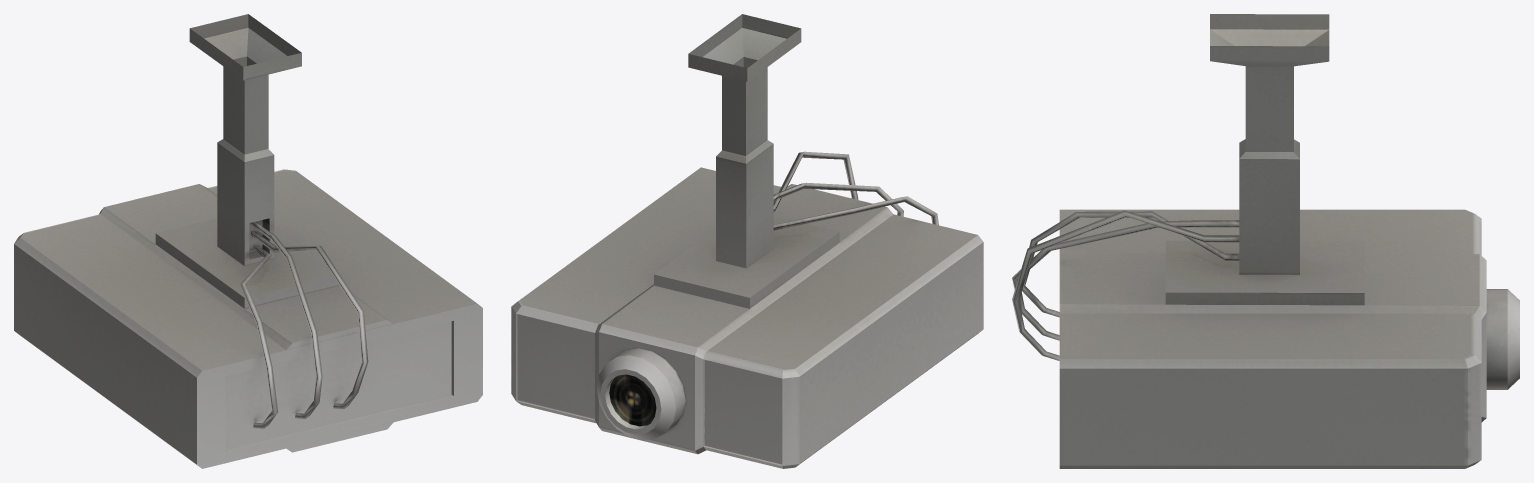
File: 3Dguoji_HDGS_TYY01_xp_ljw.FBX
3 renders of one model, left to right at view 1: azimuth 30°, elevation 25°; view 2: azimuth 150°, elevation 25°; view 3: azimuth 270°, elevation 25°, orthographic. The views are drawn at different scales.
Parts seen in each view (by area): view 1: HDGS_tyy_zxx_VRay; view 2: HDGS_tyy_zxx_VRay; view 3: HDGS_tyy_zxx_VRay.
Boxes of the visible parts, x1=… form: HDGS_tyy_zxx_VRay: x1=14, y1=14, x2=482, y2=468; HDGS_tyy_zxx_VRay: x1=511, y1=14, x2=983, y2=468; HDGS_tyy_zxx_VRay: x1=1012, y1=14, x2=1519, y2=468.
Bounding box in the file's own units: 0.5318 × 0.5896 × 0.7328.
